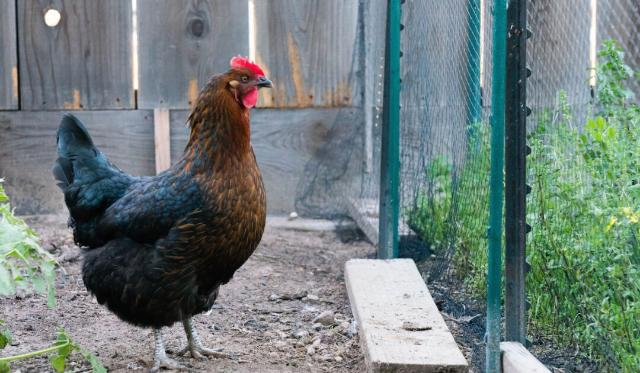Chicken: (53, 52, 275, 369)
